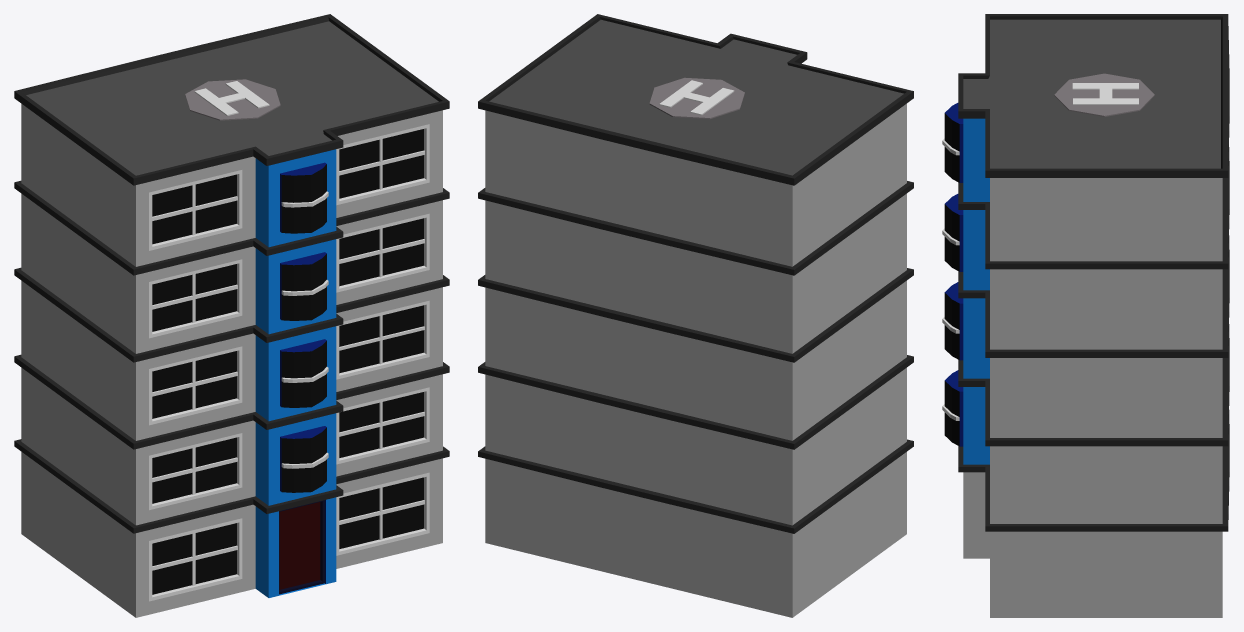
File: Building_3.fbx
The picture shows the model from 3 angles, left to right: view 1: azimuth 30°, elevation 25°; view 2: azimuth 150°, elevation 25°; view 3: azimuth 270°, elevation 25°; orthographic projection.
Visible parts, largest first — view 1: Cube; view 2: Cube; view 3: Cube.
Part boxes in pixels (x1,y1,x2,y2): Cube: (14,14,449,617); Cube: (478,14,913,617); Cube: (942,14,1229,617).
Bounding box in the file's own units: 1186 × 1586 × 919.
